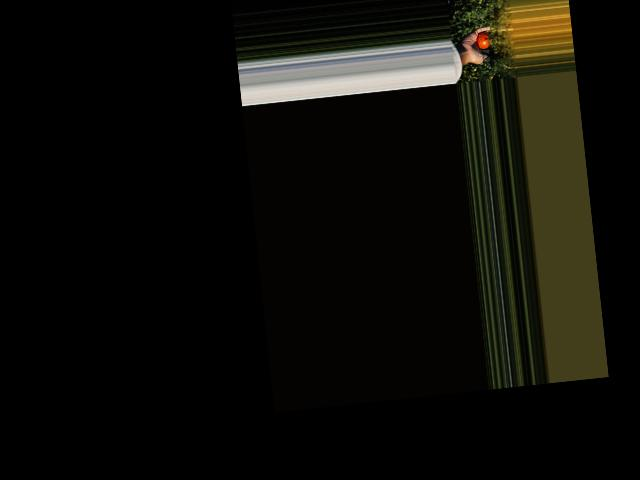tomato: (475, 31, 492, 48)
